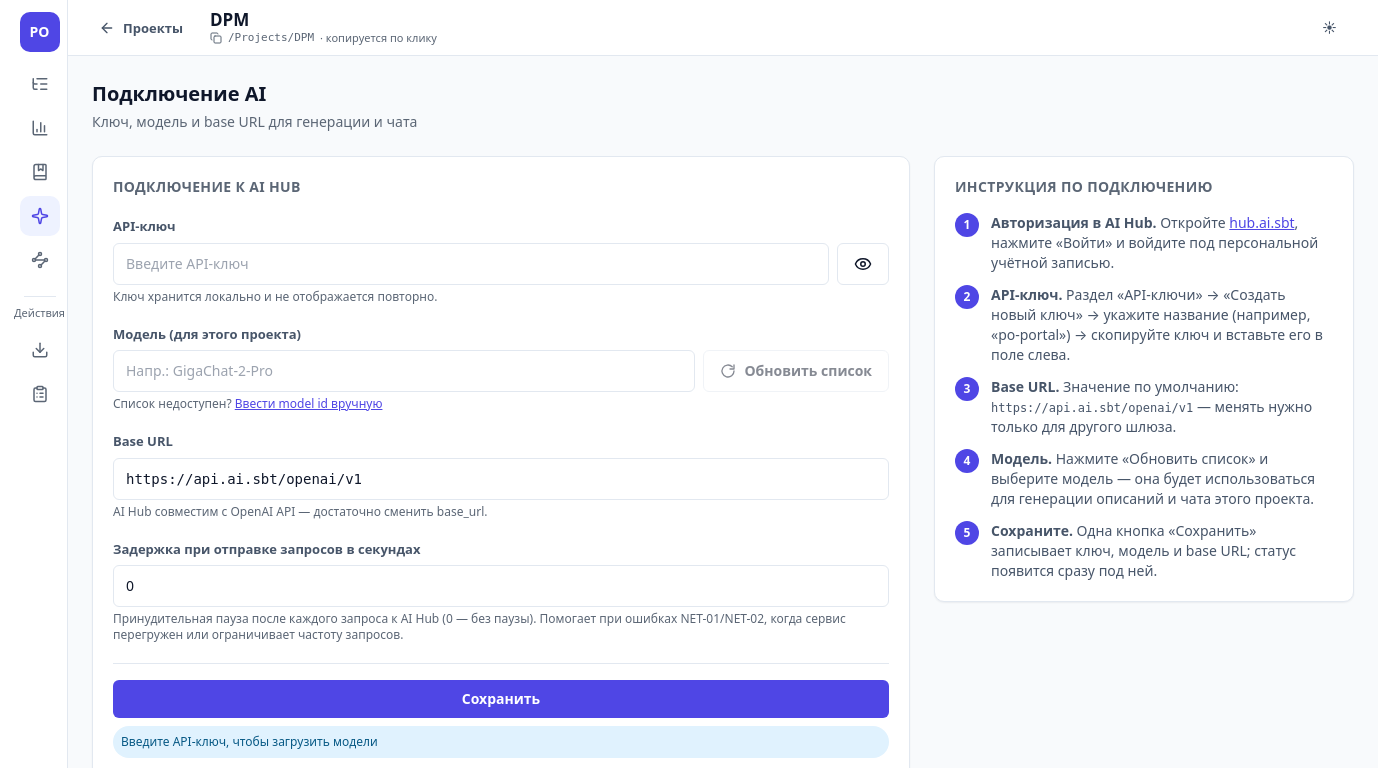
Test case: AiPage (T-803) › «Обновить список» with a freshly typed key saves it first, then loads models
In the password field with test id "ai-key-input": (471, 264) [113,242,829,284], type "sk-secret"
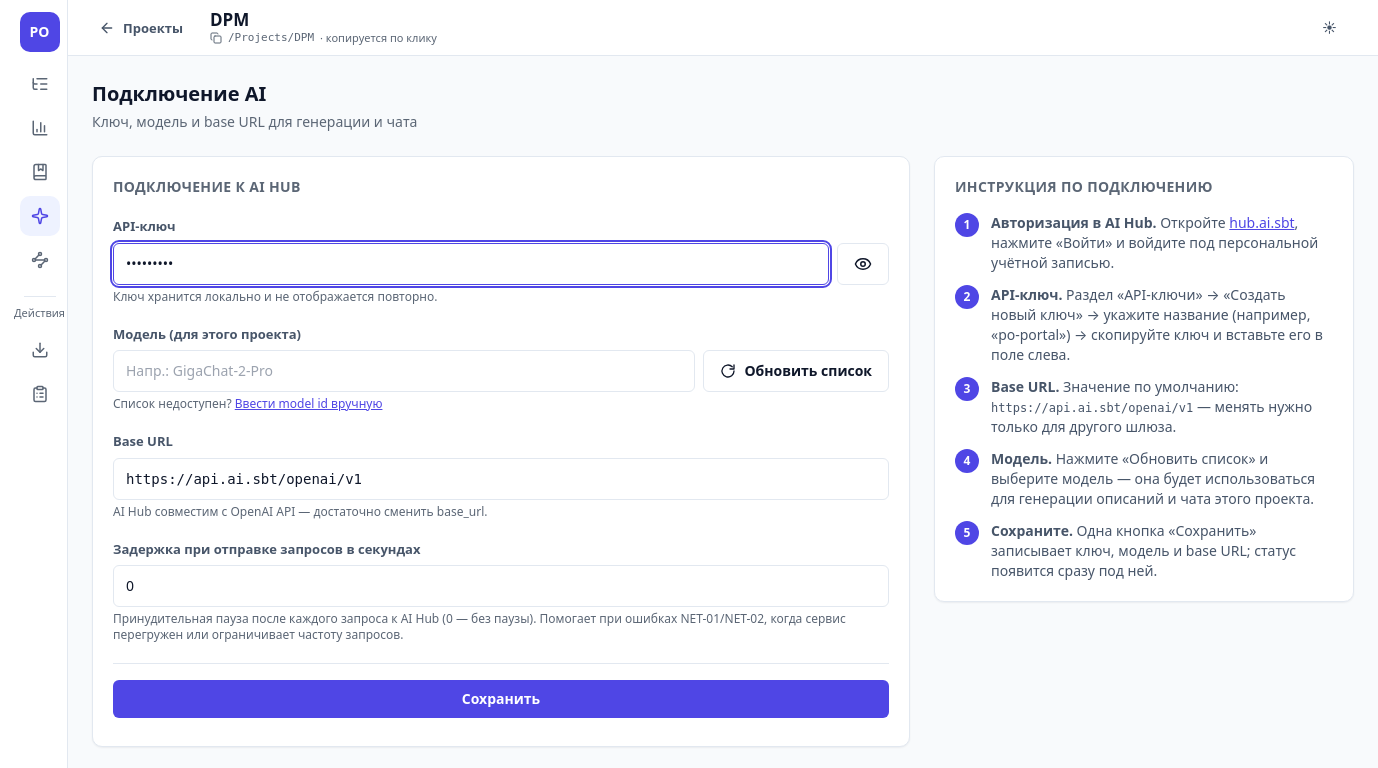
Click the button with test id "ai-models-refresh": (796, 371) [703,350,889,392]
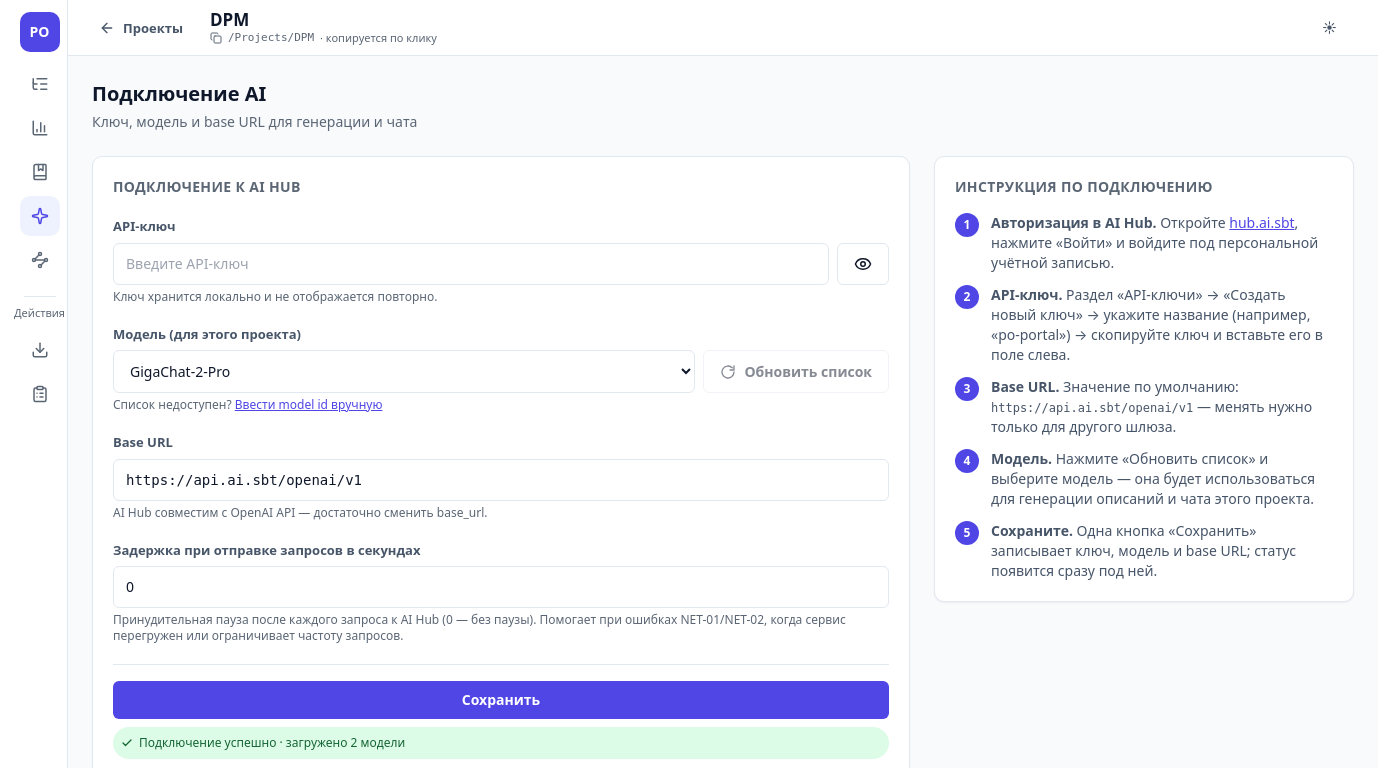
expect the element with test id "ai-status" shows "Подключение успешно": met, box [139,734,405,751]
expect the element with test id "ai-status" shows "загружено 2 модели": met, box [139,734,405,751]
expect the dropdown with test id "ai-model-select" is shown: met, box [113,350,695,393]
